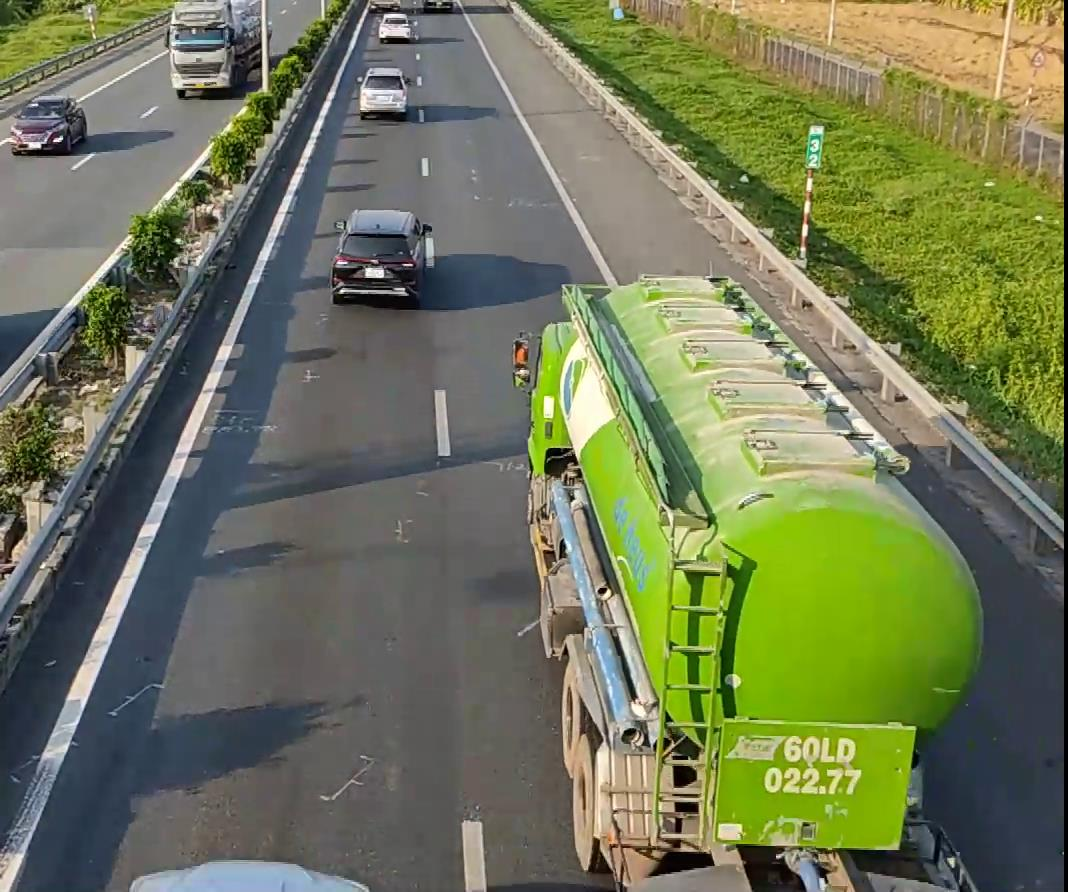car: (329, 208, 434, 304), (8, 93, 87, 154)
container: (521, 271, 987, 889)
